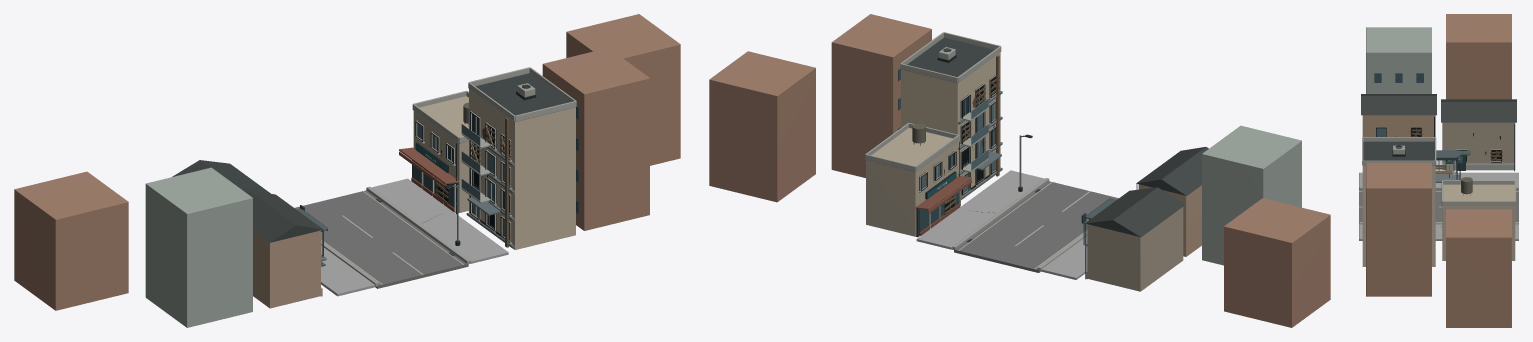
The model's file is city_hd_22.glb.
The picture shows the model from 3 angles, left to right: view 1: azimuth 30°, elevation 25°; view 2: azimuth 150°, elevation 25°; view 3: azimuth 270°, elevation 25°; orthographic projection. The views are drawn at different scales.
Parts seen in each view (by area): view 1: CITY_realwall_a5826d, Background city building, Modern apartment main volume, CITY_PBR_asphalt, CITY_roof, CITY_PBR_pavement, Narrow townhouse volume, CITY_trim, Mixed use shop volume, CITY_recess, CITY_frame, CITY_glass (+5 smaller); view 2: CITY_realwall_a5826d, Background city building, CITY_PBR_asphalt, CITY_roof, Mixed use shop volume, Narrow townhouse volume.001, Modern apartment main volume, CITY_PBR_pavement, CITY_trim, CITY_recess, Narrow townhouse volume, CITY_frame (+6 smaller); view 3: CITY_realwall_a5826d, CITY_roof, Background city building, Narrow townhouse volume.001, CITY_trim, Mixed use shop volume, Narrow townhouse volume, CITY_PBR_pavement, Modern apartment main volume, CITY_PBR_asphalt, CITY_station_frame, CITY_distant_window (+7 smaller).
Boxes of the visible parts, x1,y1,x2,y2 form: CITY_realwall_a5826d: (14,14,680,310); Background city building: (145,167,252,327); Modern apartment main volume: (469,89,575,249); CITY_PBR_asphalt: (294,190,468,288); CITY_roof: (172,73,568,242); CITY_PBR_pavement: (321,178,508,296); Narrow townhouse volume: (253,230,320,308); CITY_trim: (321,67,576,296); Mixed use shop volume: (413,96,468,212); CITY_recess: (415,111,511,242); CITY_frame: (416,111,511,242); CITY_glass: (417,124,509,239); CITY_realwall_a5826d: (709,14,1330,327); Background city building: (1202,125,1301,265); CITY_PBR_asphalt: (954,181,1118,272); CITY_roof: (907,37,1208,237); Mixed use shop volume: (866,128,958,236); Narrow townhouse volume.001: (1087,207,1183,291); Modern apartment main volume: (901,52,1000,187); CITY_PBR_pavement: (916,170,1087,279); CITY_trim: (865,32,1087,278); CITY_recess: (919,75,996,195); Narrow townhouse volume: (1138,184,1201,256); CITY_frame: (919,75,995,228); CITY_realwall_a5826d: (1366,14,1511,327); CITY_roof: (1361,94,1516,160); Background city building: (1366,27,1431,93); Narrow townhouse volume.001: (1442,122,1515,163); CITY_trim: (1362,137,1515,205); Mixed use shop volume: (1442,184,1515,260); Narrow townhouse volume: (1362,115,1435,136); CITY_PBR_pavement: (1359,172,1518,240); Modern apartment main volume: (1362,165,1435,266); CITY_PBR_asphalt: (1359,190,1518,221); CITY_station_frame: (1436,156,1462,180); CITY_distant_window: (1374,73,1423,82).
Size of the model in its own units: 57.3 by 12.41 by 16.
